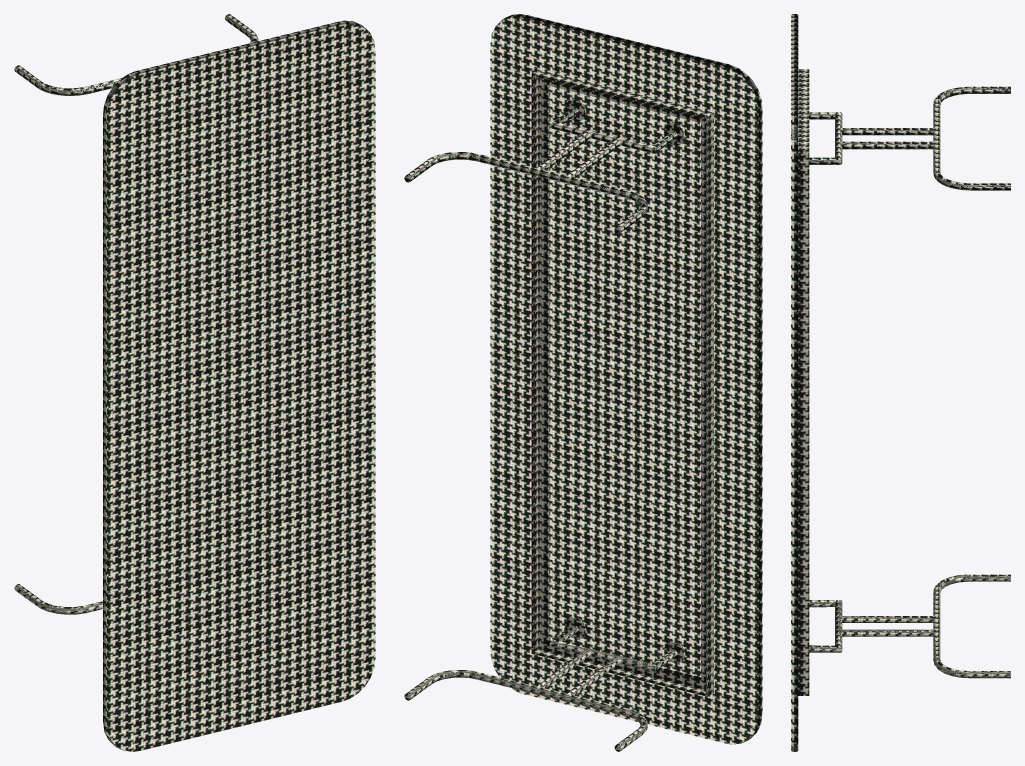
Rendered from Folding Table.fbx.
3 views of the same model, side by side, from view 1: azimuth 30°, elevation 25°; view 2: azimuth 150°, elevation 25°; view 3: azimuth 270°, elevation 25° (orthographic). The views are drawn at different scales.
Parts seen in each view (by area): view 1: Folding Table Part 2, Folding Table Part 3, Folding Table Part 1; view 2: Folding Table Part 2, Folding Table Part 1, Folding Table Part 3; view 3: Folding Table Part 1, Folding Table Part 3.
Boxes of the visible parts, x1,y1,x2,y2 form: Folding Table Part 2: (107,23,375,751); Folding Table Part 3: (103,20,374,751); Folding Table Part 1: (14,14,258,614); Folding Table Part 2: (490,17,758,744); Folding Table Part 1: (404,69,713,751); Folding Table Part 3: (491,14,762,744); Folding Table Part 1: (798,69,1010,695); Folding Table Part 3: (791,14,798,751).
Size of the model in its own units: 101 by 75.77 by 243.
1 material, 1 textured.
